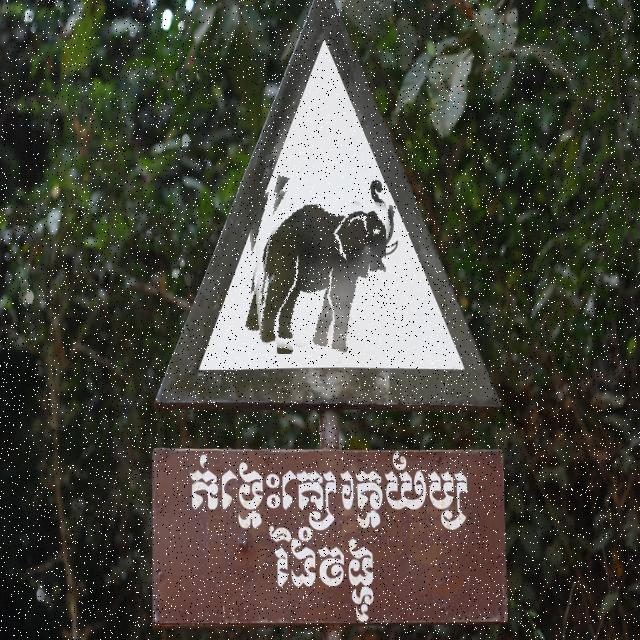elephant: (246, 182, 386, 354)
